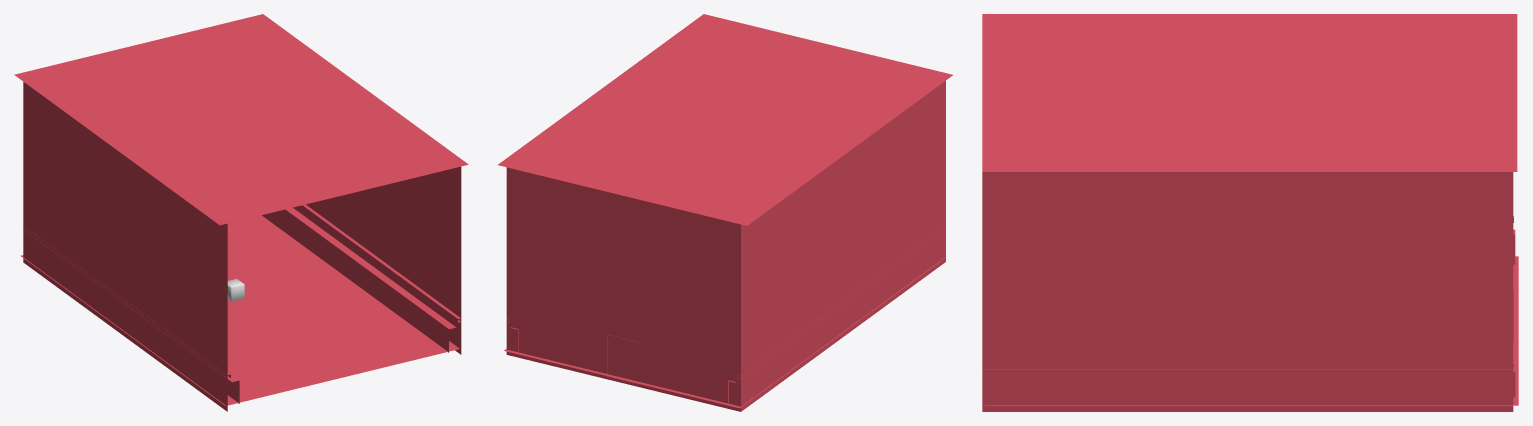
3 views of the same model, side by side, from view 1: azimuth 30°, elevation 25°; view 2: azimuth 150°, elevation 25°; view 3: azimuth 270°, elevation 25° (orthographic). The views are drawn at different scales.
Visible parts, largest first — view 1: WALL, ROOF, Plane.001, SIDE PILLER, WALL SPRT; view 2: WALL, ROOF, Plane.001; view 3: WALL, ROOF, Plane.001, WALL SPRT.
Part boxes in pixels (bbox=[...]): WALL: bbox=[23, 82, 461, 411]; ROOF: bbox=[14, 14, 468, 225]; Plane.001: bbox=[20, 215, 459, 405]; SIDE PILLER: bbox=[227, 207, 455, 403]; WALL SPRT: bbox=[24, 204, 460, 378]; WALL: bbox=[506, 81, 945, 411]; ROOF: bbox=[498, 14, 952, 225]; Plane.001: bbox=[504, 257, 945, 408]; WALL: bbox=[982, 172, 1513, 411]; ROOF: bbox=[982, 14, 1517, 171]; Plane.001: bbox=[985, 256, 1518, 405]; WALL SPRT: bbox=[982, 216, 1513, 369].
Bounding box in the file's own units: 3831 × 2770 × 5499.
